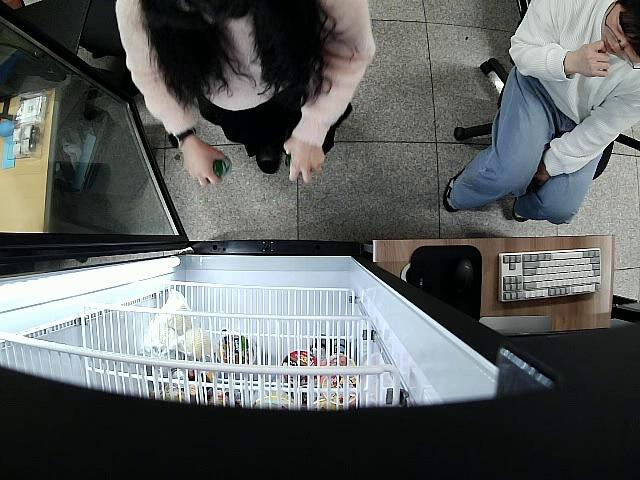00_hand: (181, 141, 225, 187), (283, 139, 325, 185)
12_chilsungCider: (205, 154, 232, 185)
